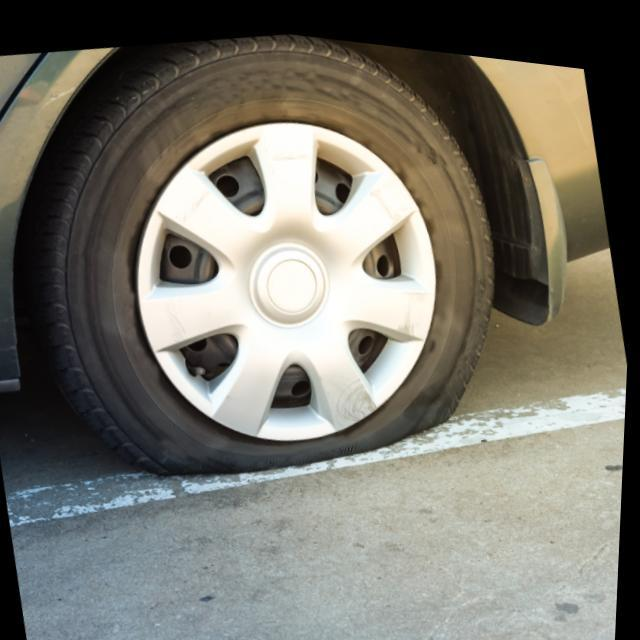tire flat: (48, 27, 495, 466)
